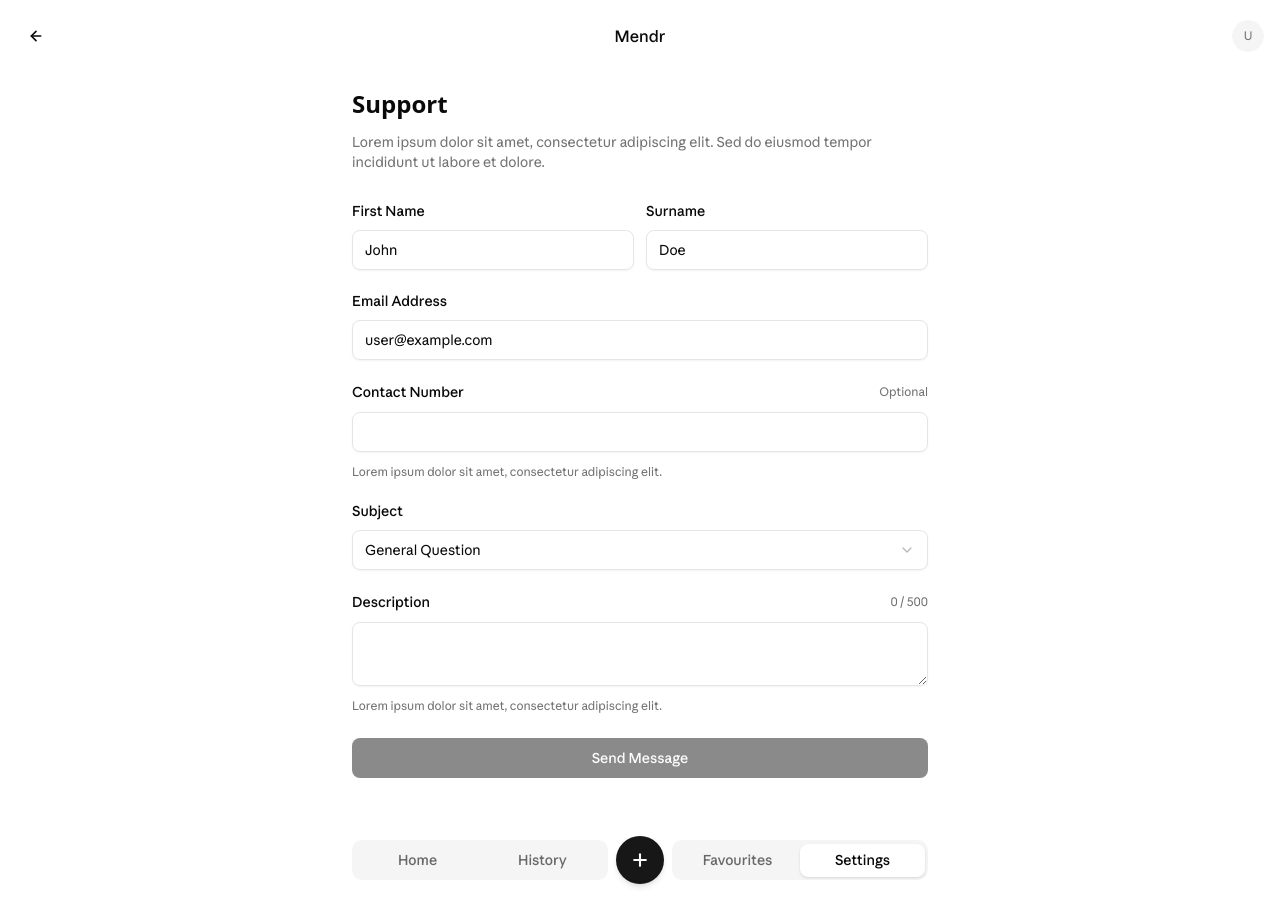
settings/support/client.tsx › "Send Message" button is enabled after typing in description
This screenshot has width=1280, height=900.
Step 1. Type "I need help with my account." into the text box labelled "Description" → point(640, 654), box [352,622,928,686]
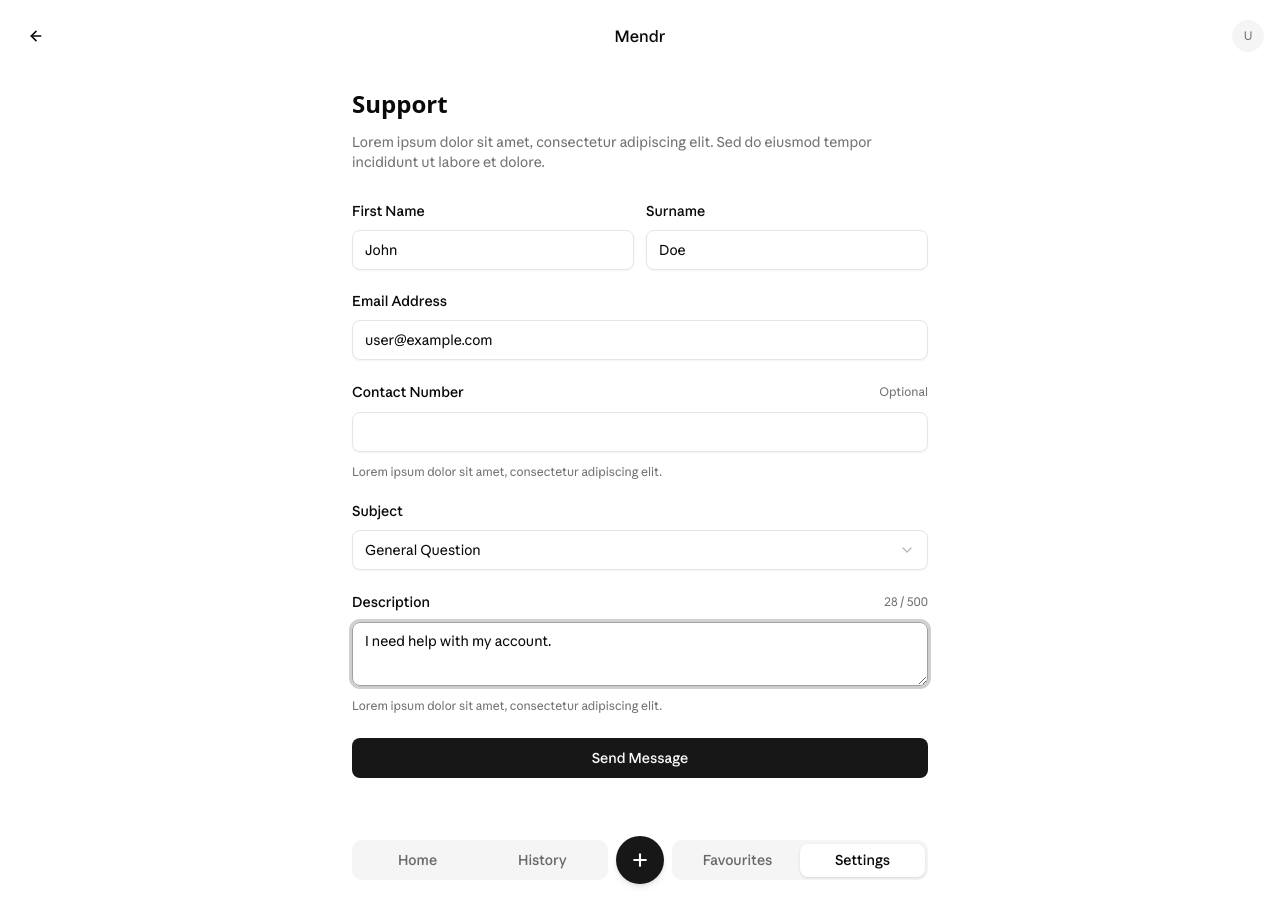
Expected: the button "Send Message" is enabled, [352,738,928,778]
